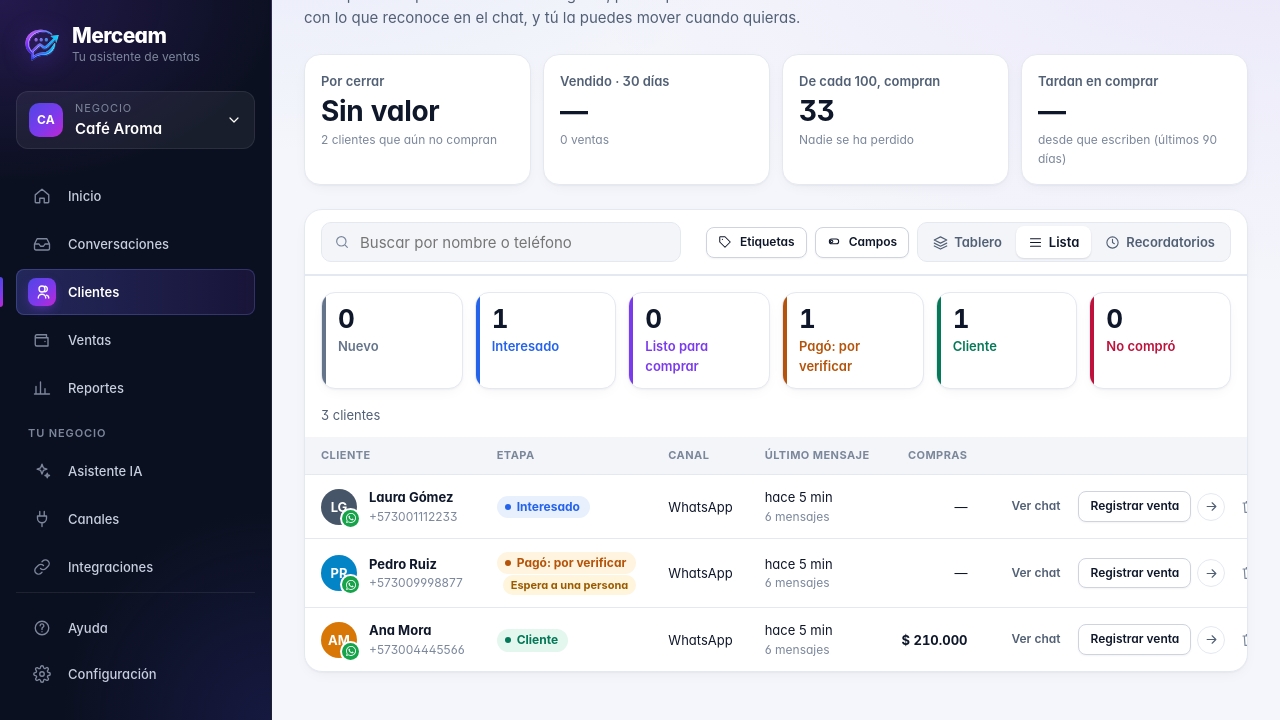
Test: La ficha del cliente › también se abre desde el nombre en la lista
(page scrolled)
Click the button with aria-label "Abrir la ficha de Ana Mora" at point(417, 631), box [369,620,465,641]
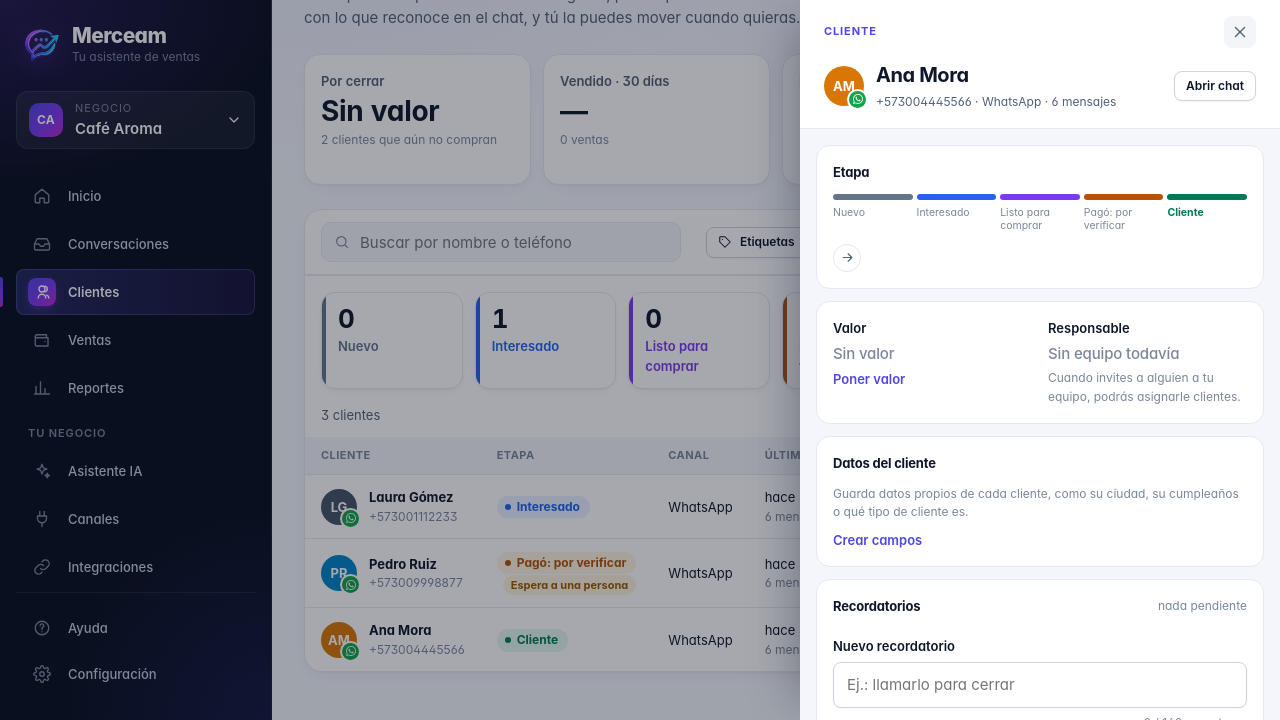
Now the dialog "Ana Mora" is shown, box [800,0,1279,719]
